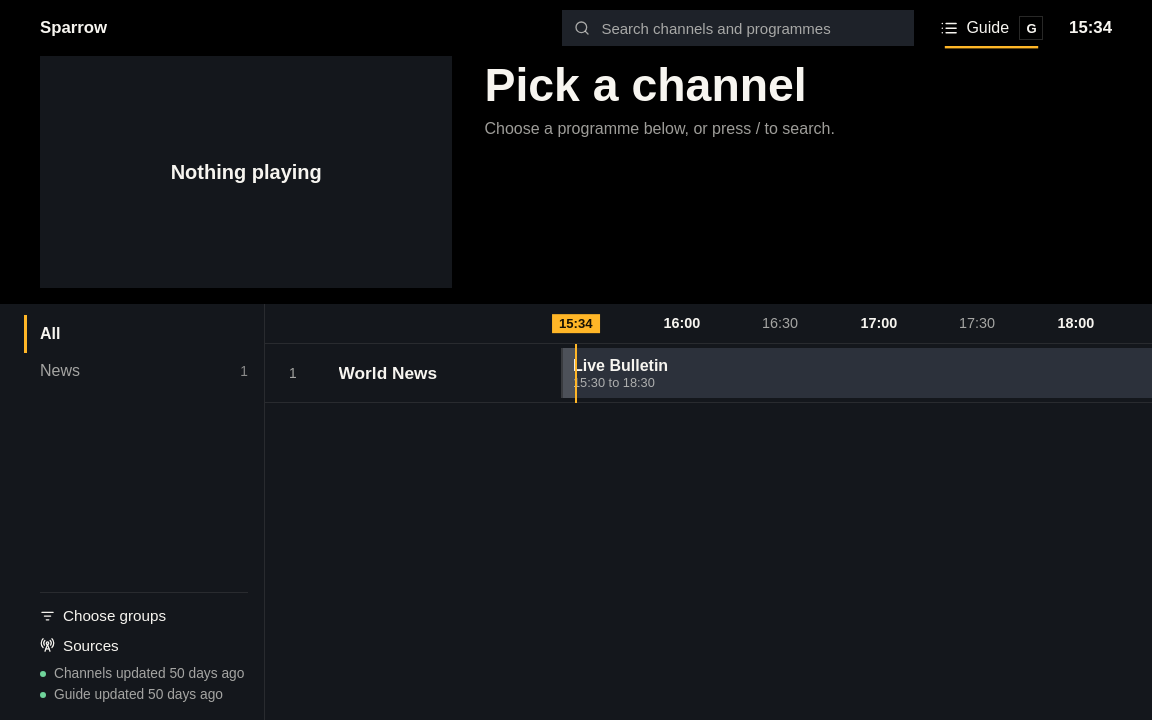
Test case: CatalogBrowser shell › reconciles status before repeating a mismatched board search
Click the dropdown labelled "Search channels and programmes". click: x=738, y=28
box: [562,10,914,46]
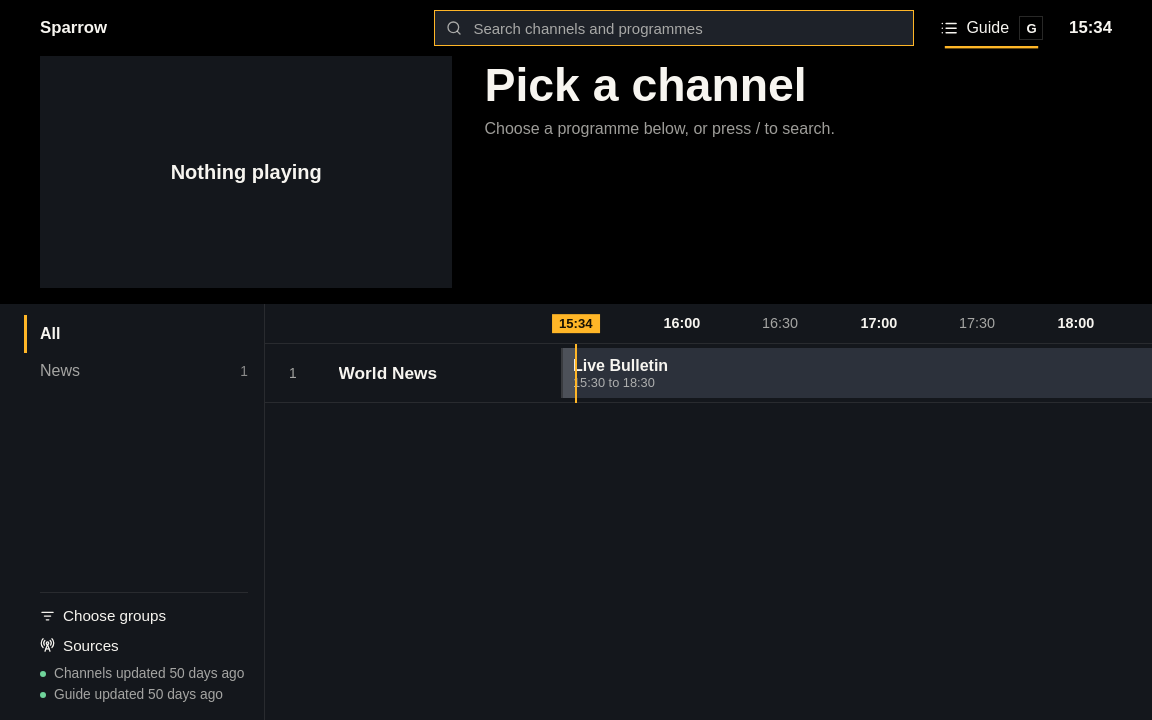
// This case owns generation reconciliation, not inter-keystroke debounce.
Type keys "world"
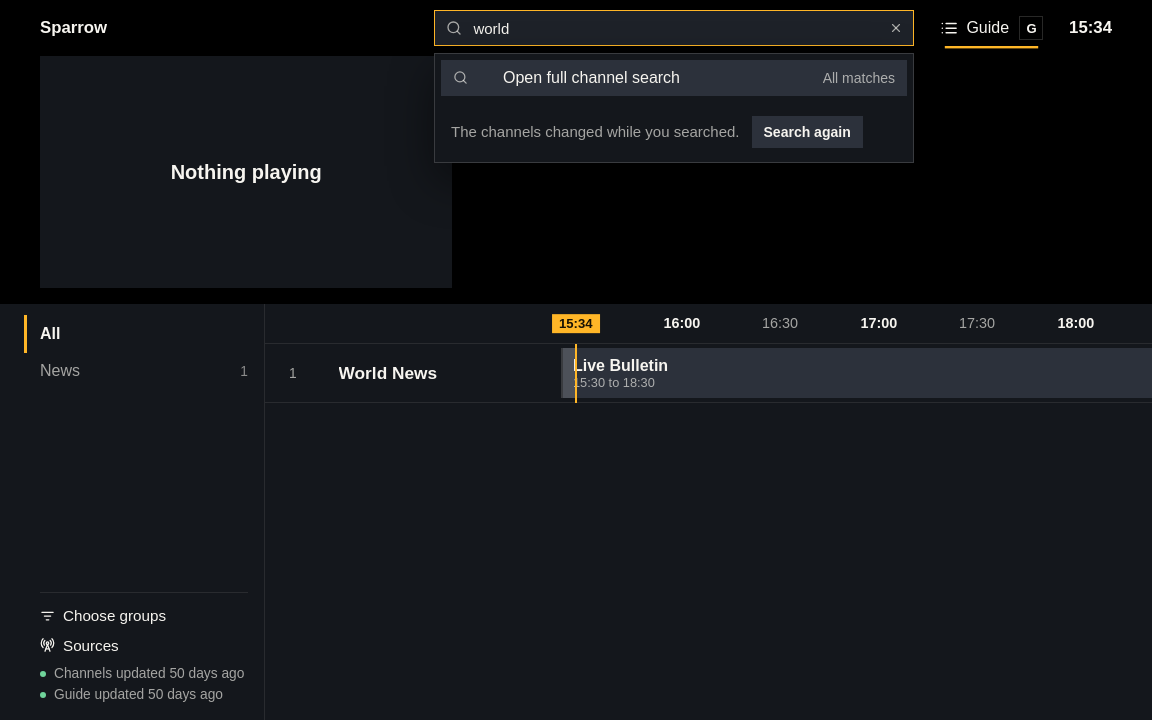
expect the text "The channels changed while you searched." is shown: met, box [451,123,740,140]
Click the button "Search again". click: x=807, y=132
box: [752,116,863,148]
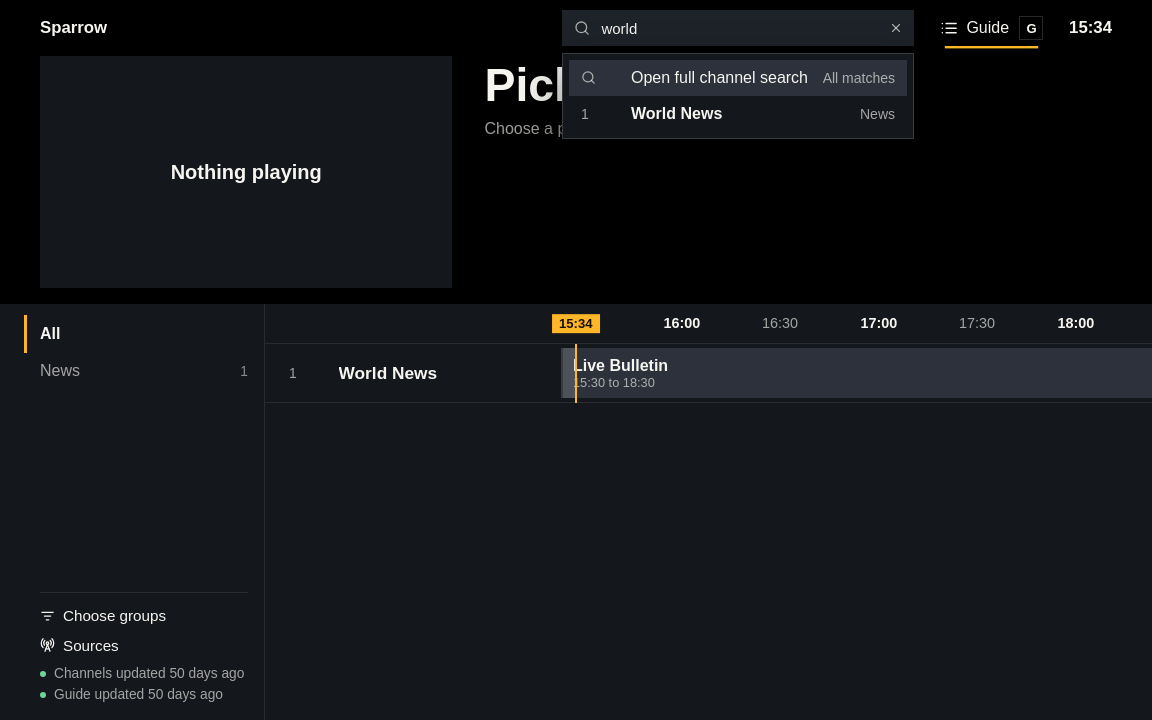
expect the option "1 World News News" is shown: met, box [581,105,895,122]
